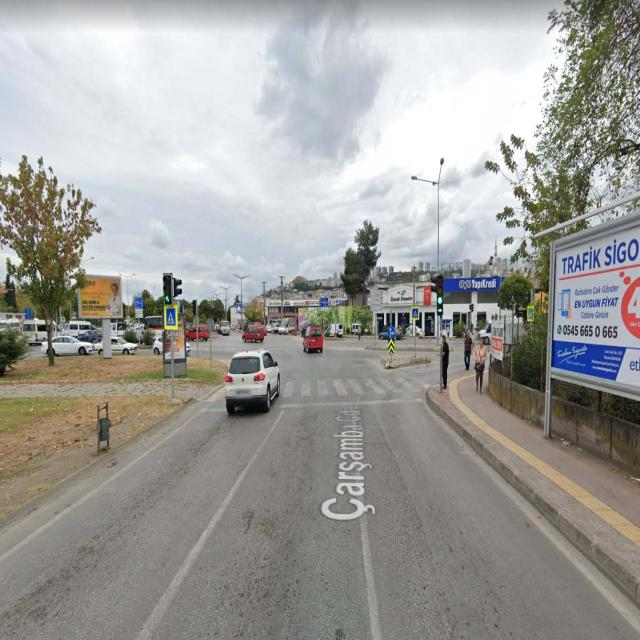yesil: (162, 274, 172, 306), (436, 275, 443, 305)
